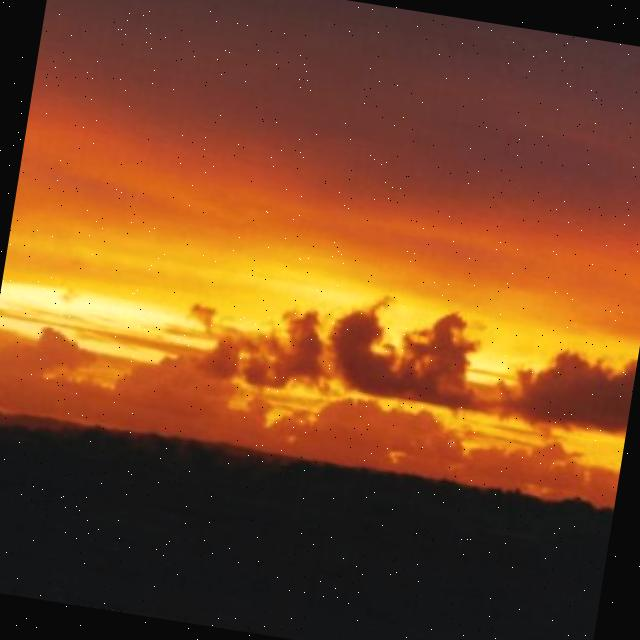As: (189, 274, 640, 451)
